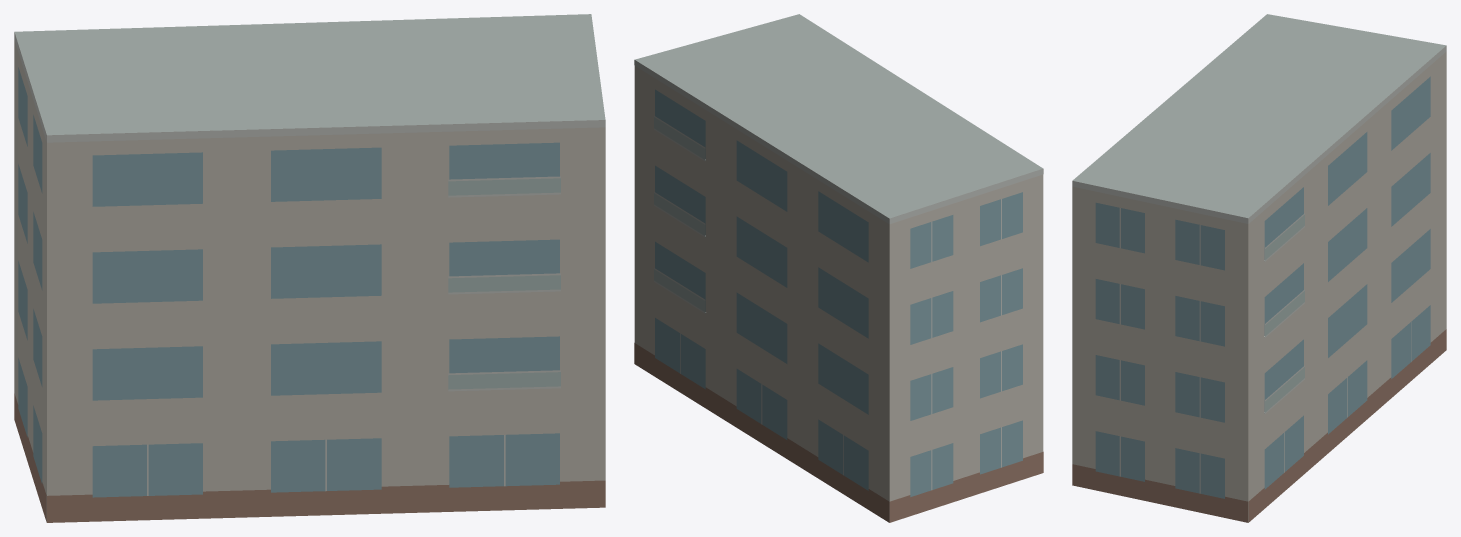
The model's file is survey-upis-33023221.glb.
3 views of the same model, side by side, from view 1: azimuth 30°, elevation 25°; view 2: azimuth 150°, elevation 25°; view 3: azimuth 270°, elevation 25° (orthographic). The views are drawn at different scales.
Parts seen in each view (by area): view 1: survey-upis-33023221.tmp; view 2: survey-upis-33023221.tmp; view 3: survey-upis-33023221.tmp.
Boxes of the visible parts, left/top/right/bottom form: survey-upis-33023221.tmp: left=14, top=14, right=605, bottom=522; survey-upis-33023221.tmp: left=634, top=14, right=1043, bottom=522; survey-upis-33023221.tmp: left=1072, top=14, right=1446, bottom=522.
Size of the model in its own units: 18.42 by 12.8 by 14.27.
